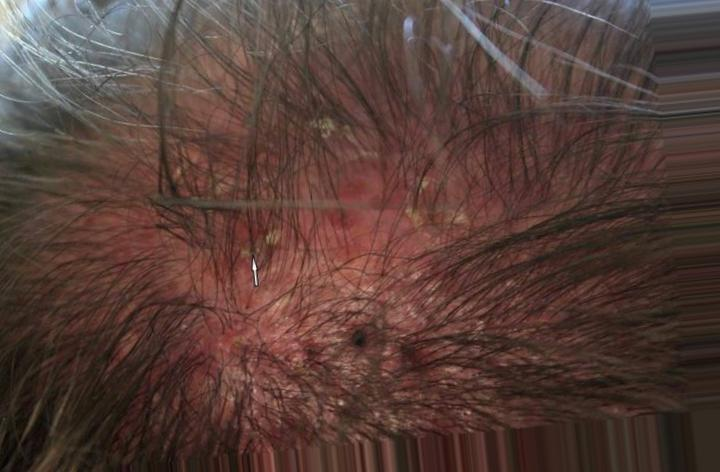Folliculitis: (206, 145, 465, 395)
